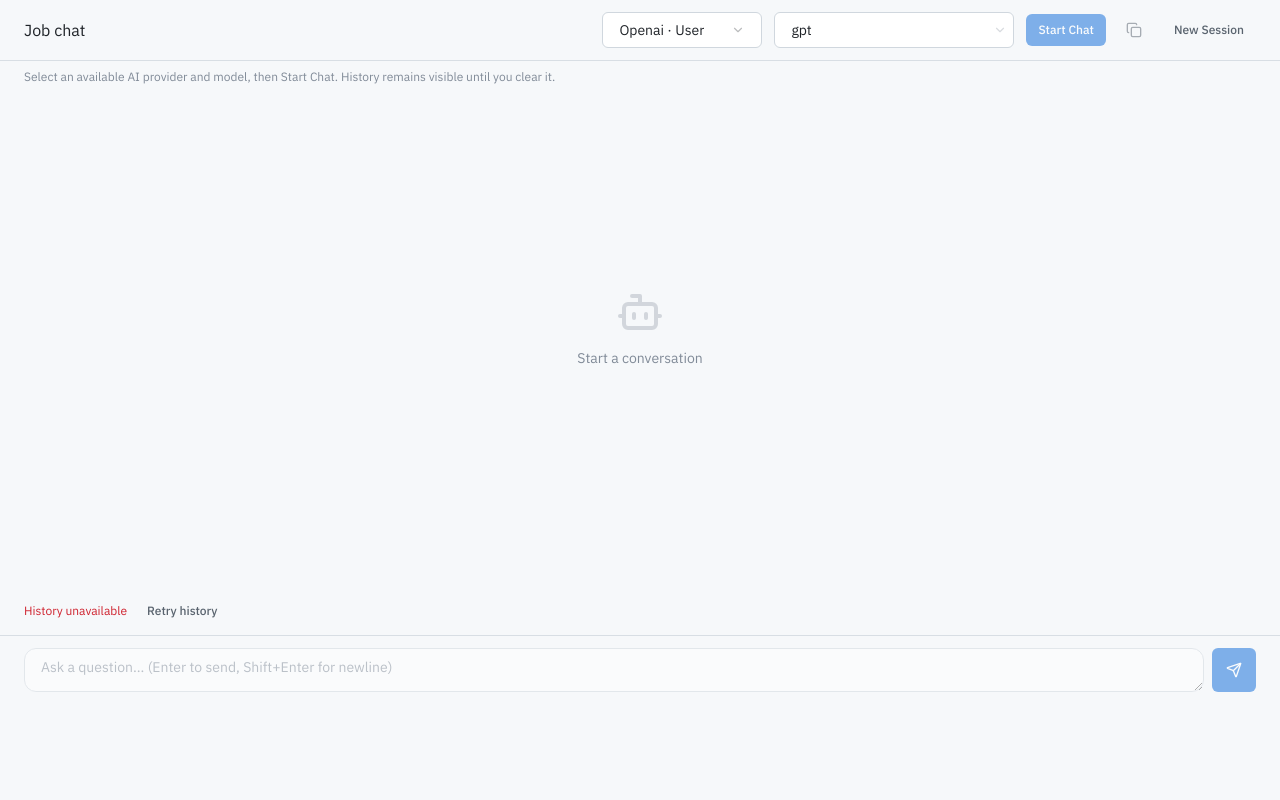
Test: does not POST init after a history load failure
The width and height of the screenshot is (1280, 800).
Expected: the message "History unavailable Retry history" is shown, [24,595,230,627]
Expected: the button "Start Chat" is disabled, [1026,14,1106,46]
What coordinates should you click on to do the following:
click the button "Retry history"
I would click on:
 (182, 611)
Its box is [135,595,230,627].
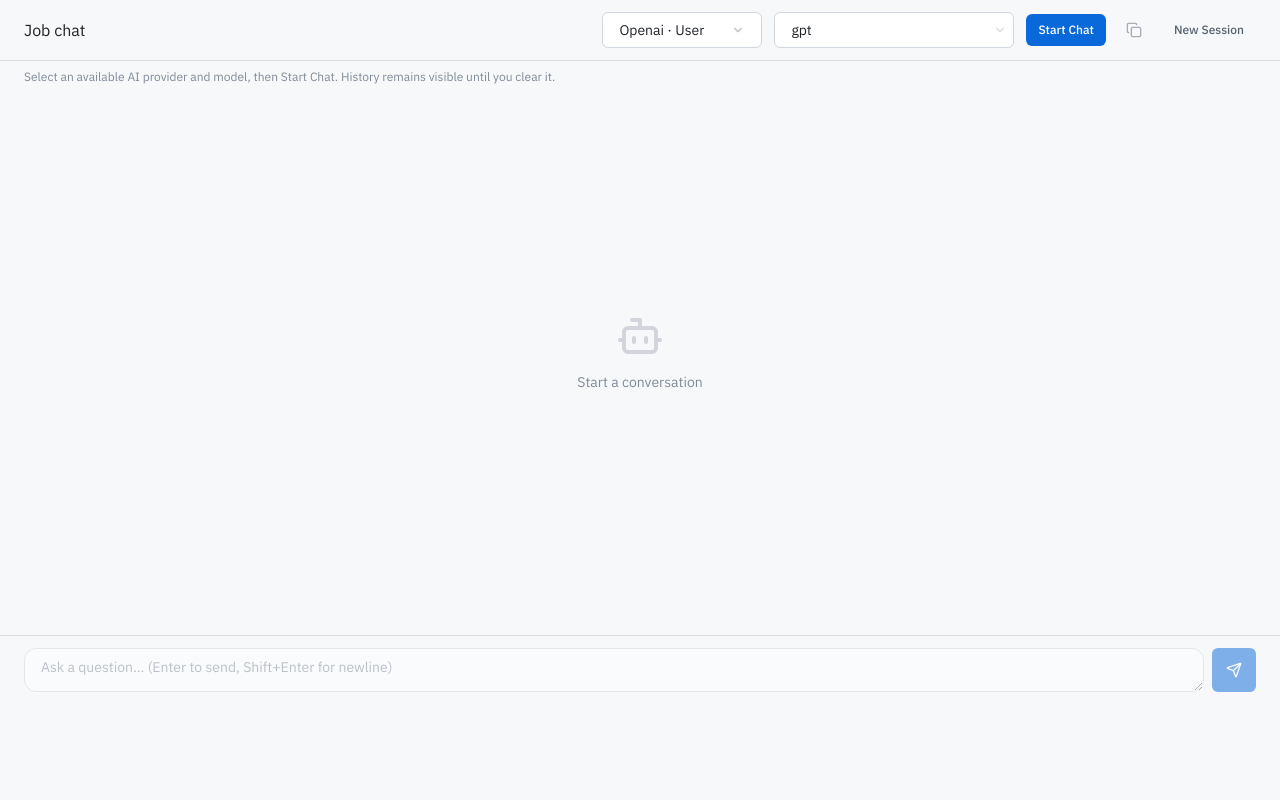
Expected: the button "Start Chat" is enabled, [1026,14,1106,46]
